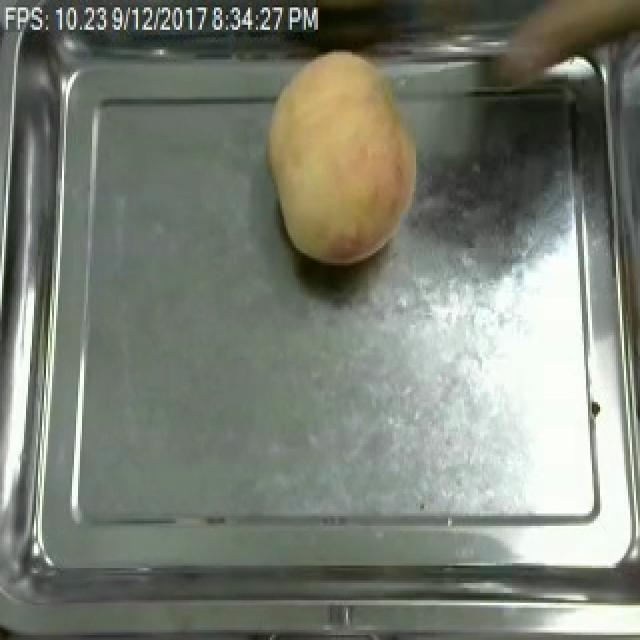Fruit: (256, 42, 428, 273)
